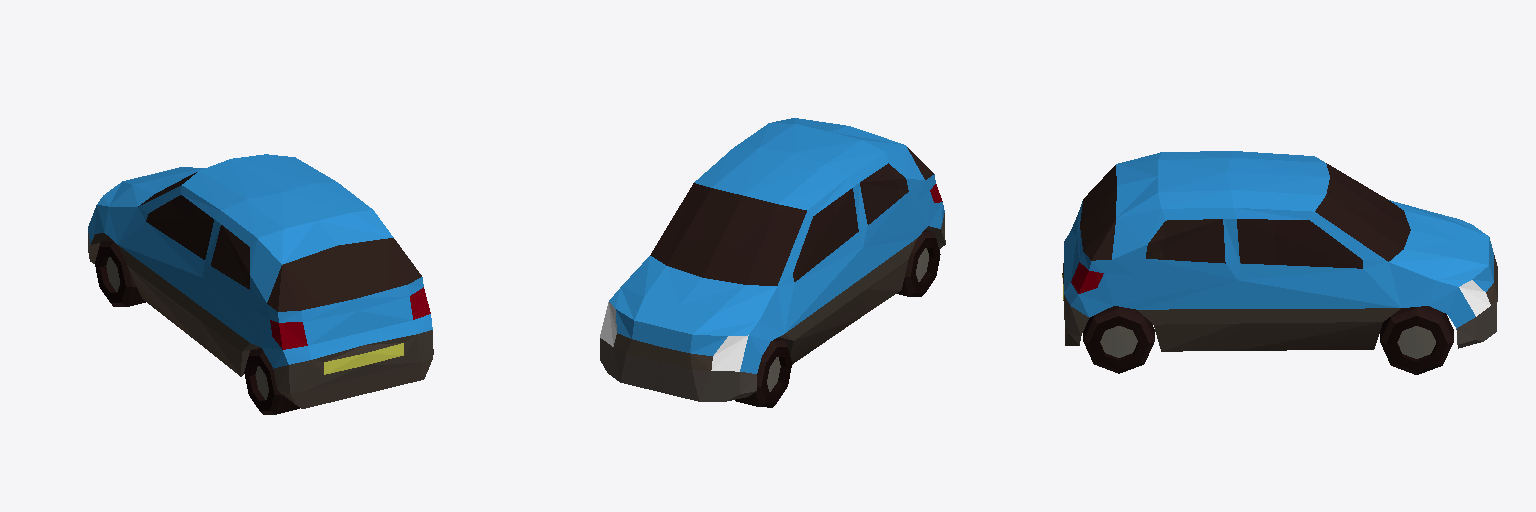
3 renders of one model, left to right at view 1: azimuth 30°, elevation 25°; view 2: azimuth 150°, elevation 25°; view 3: azimuth 270°, elevation 25°, orthographic.
Parts seen in each view (by area): view 1: Car_Carrosserie, Car_Base; view 2: Car_Carrosserie, Car_Base; view 3: Car_Carrosserie, Car_Base.
Boxes of the visible parts, <box> form: Car_Carrosserie: <box>88,154,432,368</box>; Car_Base: <box>88,172,433,414</box>; Car_Carrosserie: <box>609,118,944,373</box>; Car_Base: <box>600,147,945,407</box>; Car_Carrosserie: <box>1064,151,1493,328</box>; Car_Base: <box>1062,163,1497,374</box>.
Bounding box in the file's own units: 1.94 × 1.98 × 4.67.
1 materials, 1 textured.